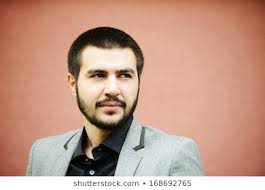middle_eastern_male: (71, 27, 146, 127)
